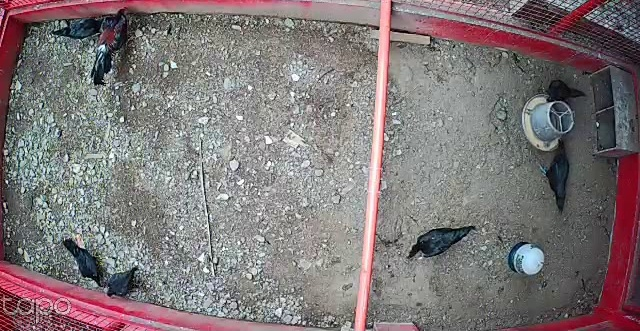Chicken: (405, 223, 479, 260), (539, 137, 571, 214), (62, 236, 105, 291), (105, 261, 142, 299), (51, 20, 104, 43), (542, 77, 588, 103)
Drinker: (508, 240, 546, 276)
Feeder: (522, 95, 574, 153)
Rooster: (91, 5, 131, 87)
